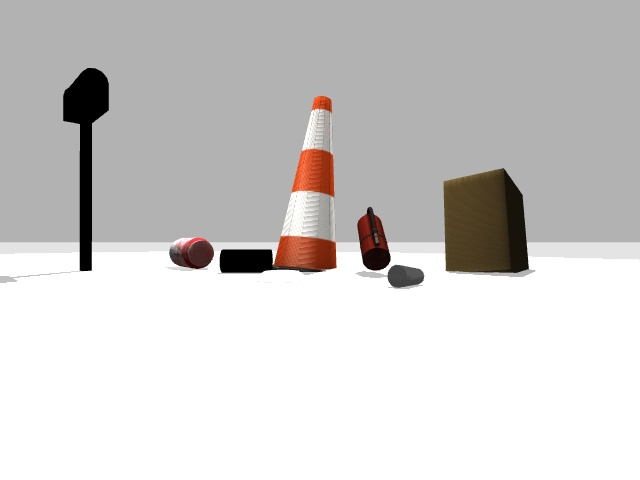boite_lettres: (63, 68, 108, 270)
bol: (259, 269, 304, 282)
bouteille_verre: (220, 249, 273, 273)
canette: (169, 237, 213, 268)
carton: (443, 168, 528, 272)
cone_chantier: (273, 96, 335, 270)
extincteur: (357, 207, 390, 270)
gobelet: (388, 265, 423, 287)
